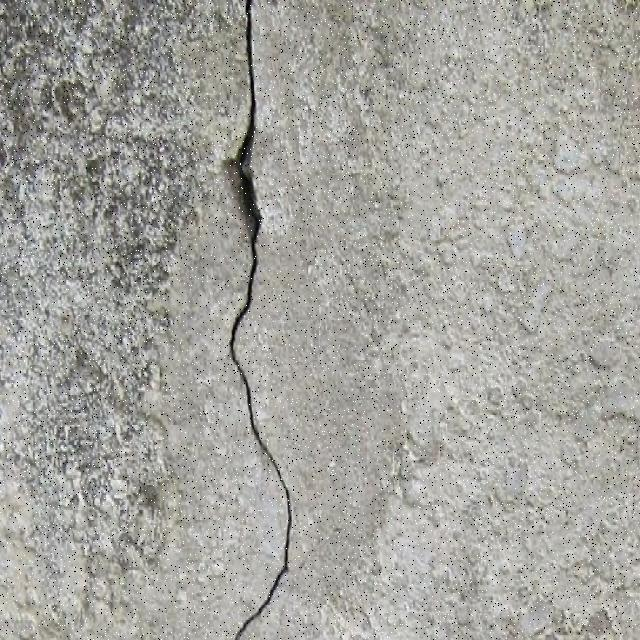moderate crack: (353, 453, 424, 553), (506, 588, 620, 636), (101, 493, 164, 560), (230, 570, 282, 631), (323, 582, 377, 633), (593, 409, 640, 448), (541, 398, 600, 426), (585, 352, 608, 369)
severe crack: (219, 14, 291, 640), (238, 6, 258, 185)
